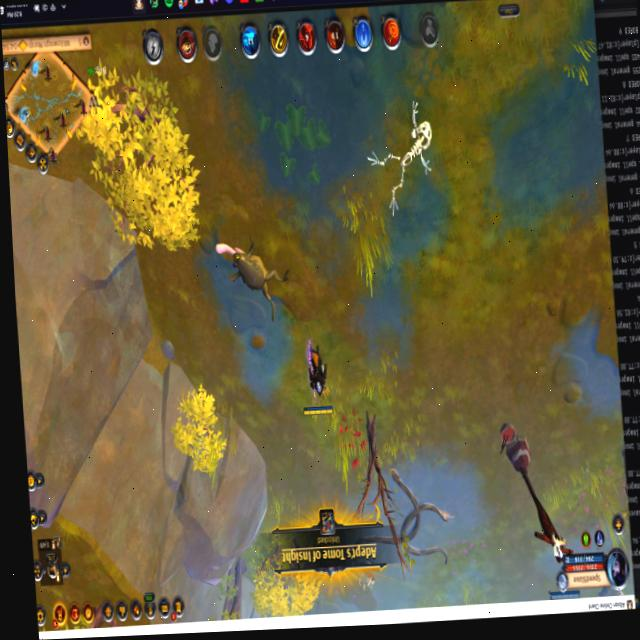red: (295, 335, 336, 422)
